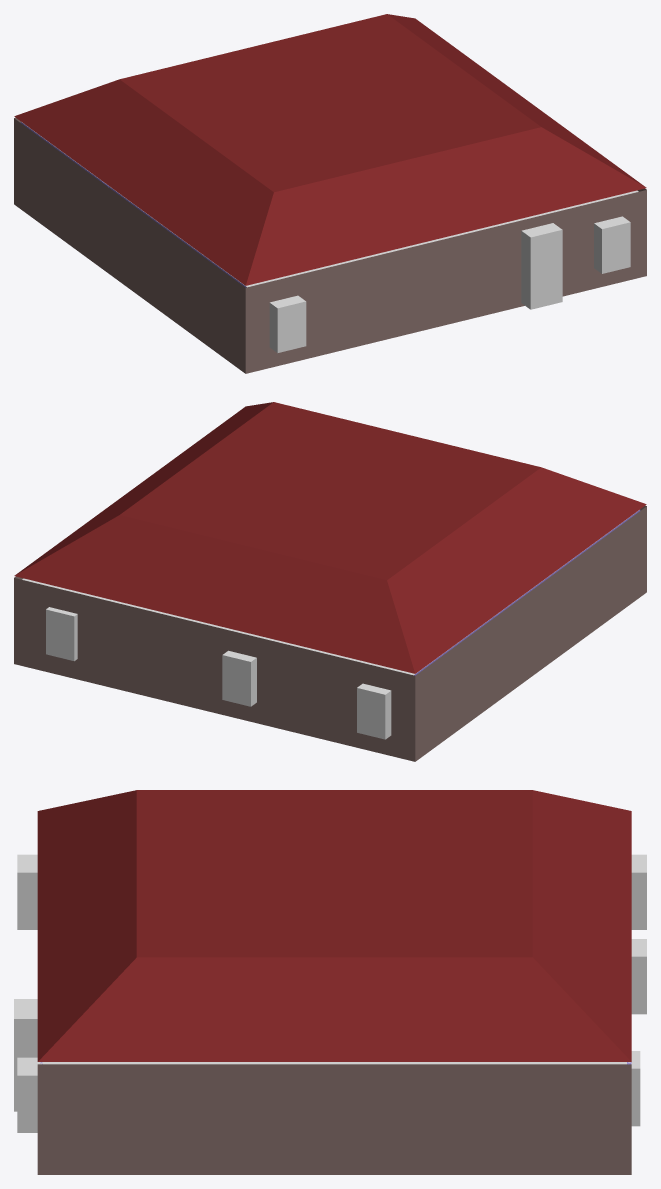
The model's file is Room.fbx.
The picture shows the model from 3 angles, top to bottom: view 1: azimuth 30°, elevation 25°; view 2: azimuth 150°, elevation 25°; view 3: azimuth 270°, elevation 25°; orthographic projection. The views are drawn at different scales.
Visible parts, largest first — view 1: Roof, Room, Window.004, Window.002, Window.003; view 2: Roof, Room, Window.001, Window, Window.005; view 3: Roof, Room, Window.004, Window.003, Window.002, Window.001, Window, Window.005.
Part boxes in pixels (x1,y1,x2,y2): Roof: [14, 14, 646, 285]; Room: [14, 117, 646, 373]; Window.004: [521, 223, 562, 309]; Window.002: [269, 295, 306, 352]; Window.003: [594, 216, 630, 273]; Roof: [14, 402, 646, 673]; Room: [14, 505, 646, 761]; Window.001: [357, 683, 391, 739]; Window: [222, 650, 256, 706]; Window.005: [46, 607, 77, 661]; Roof: [37, 790, 631, 1061]; Room: [37, 1062, 631, 1174]; Window.004: [14, 999, 37, 1111]; Window.003: [17, 1057, 42, 1132]; Window.002: [17, 854, 37, 929]; Window.001: [631, 854, 646, 929]; Window: [631, 939, 646, 1014]; Window.005: [627, 1051, 640, 1126].
Size of the model in its own units: 4126 by 1346 by 4397.
